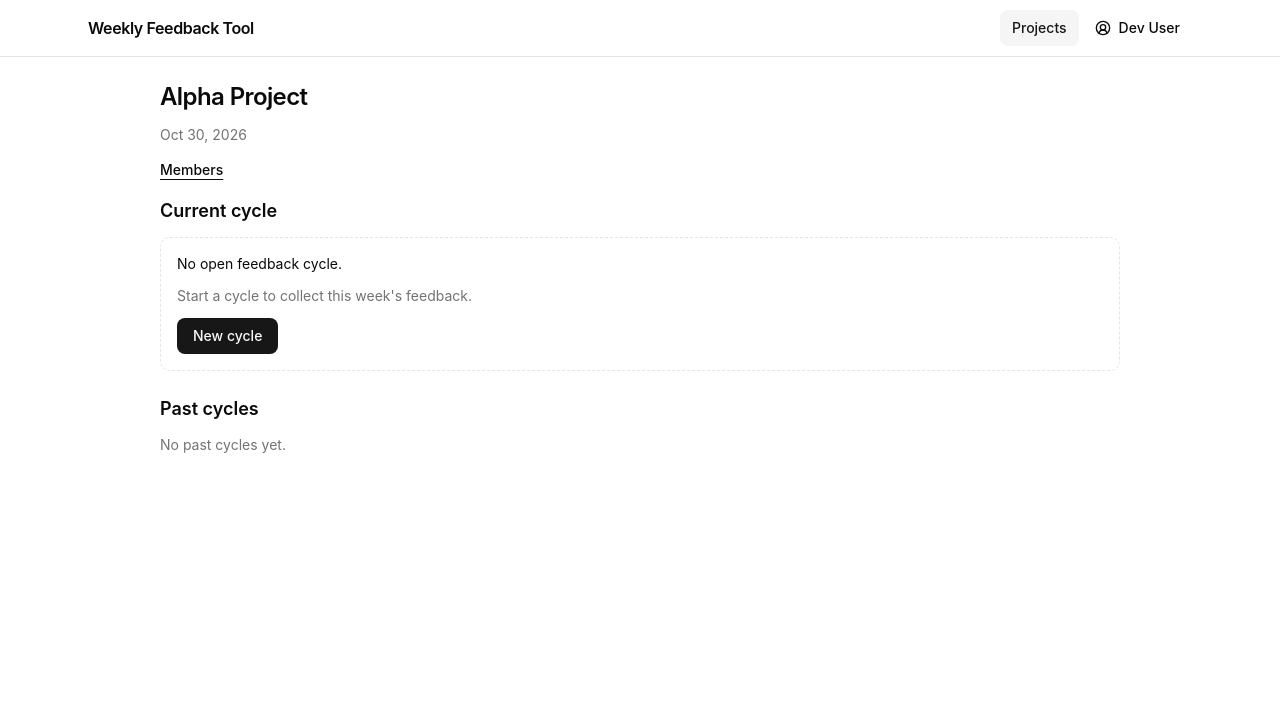
Test: ProjectPage create cycle form › prefills the title and week from the local date and lists three weeks
Click the button "New cycle" at (228, 336), box [177, 318, 278, 354]
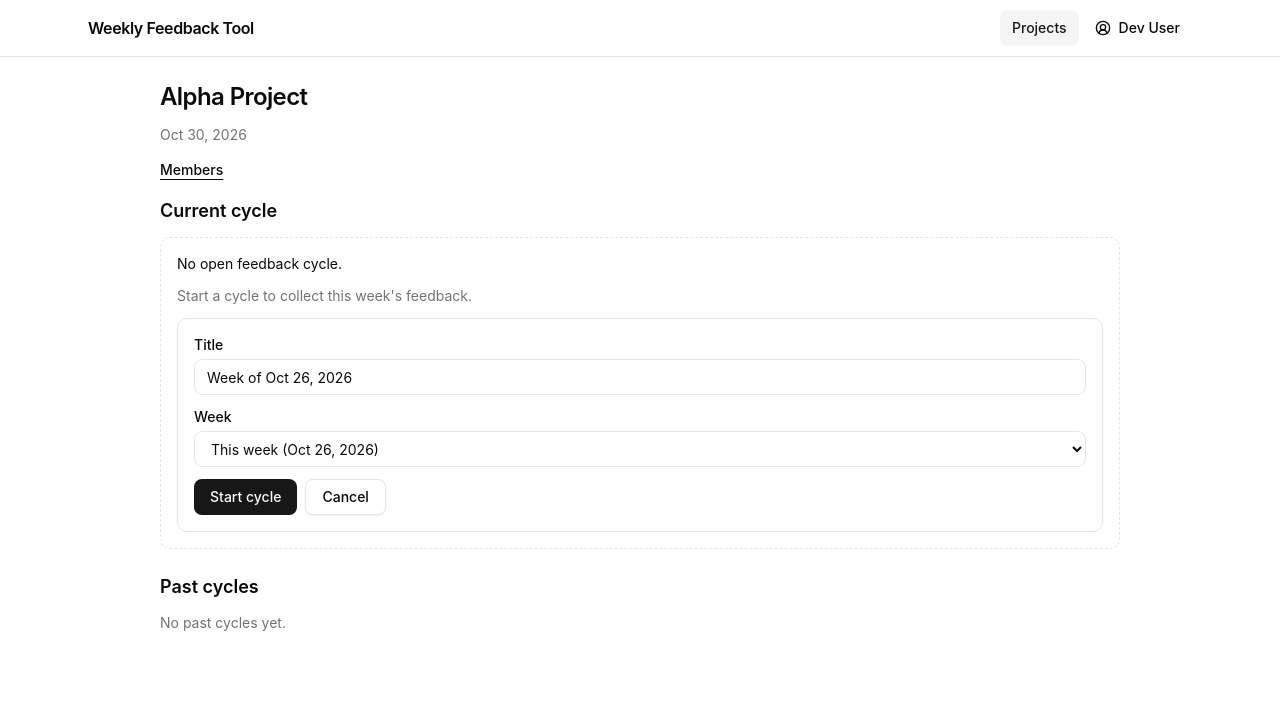
Now the field labelled "Title" holds "Week of Oct 26, 2026", box [194, 359, 1086, 395]
Now the dropdown labelled "Week" shows "This week (Oct 26, 2026)", box [194, 431, 1086, 467]
